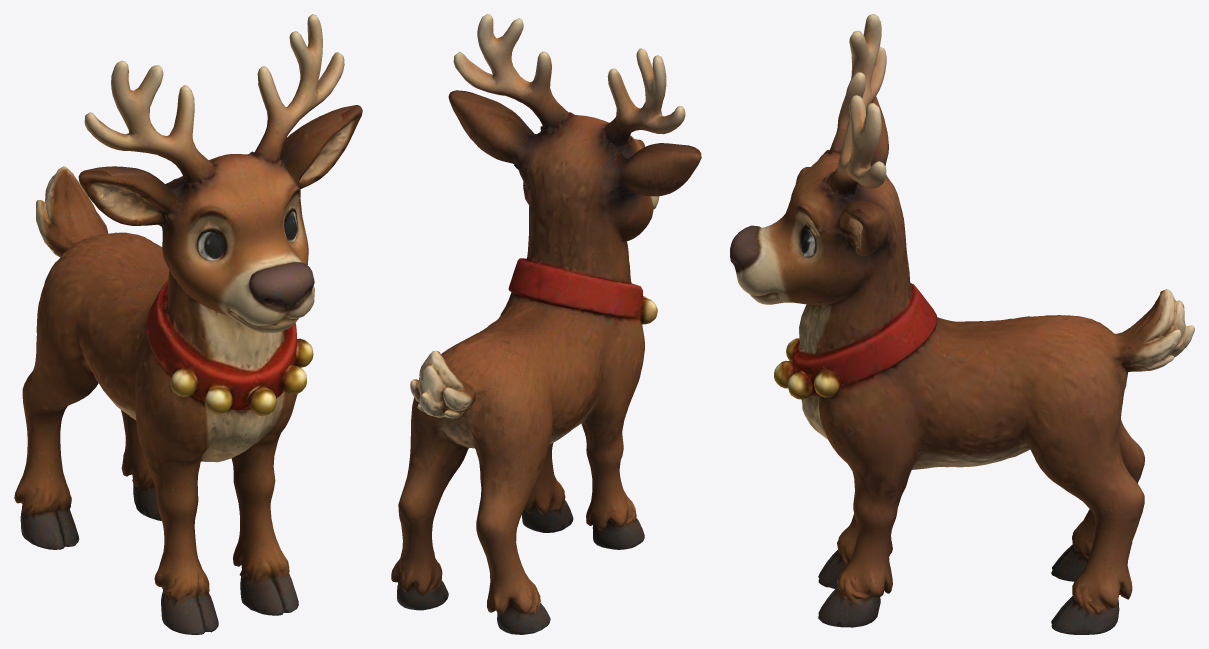
3 renders of one model, left to right at view 1: azimuth 30°, elevation 25°; view 2: azimuth 150°, elevation 25°; view 3: azimuth 270°, elevation 25°, orthographic. The views are drawn at different scales.
Size of the model in its own units: 0.9956 by 1.9 by 1.49.
1 material, 1 textured.
